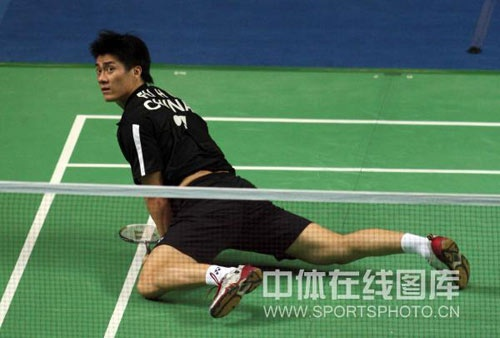falling: (76, 18, 483, 319)
